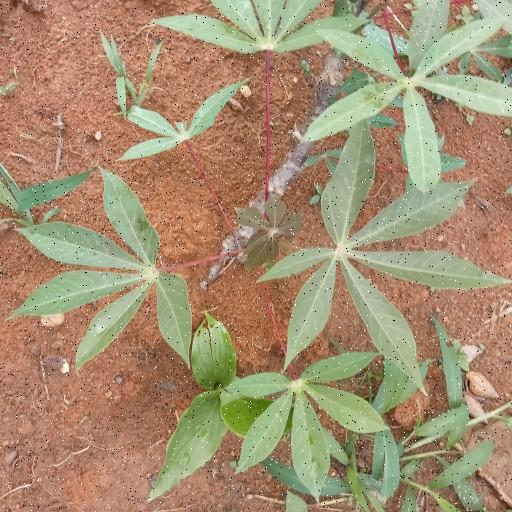Cassava_Mosaic: (271, 127, 491, 378)
